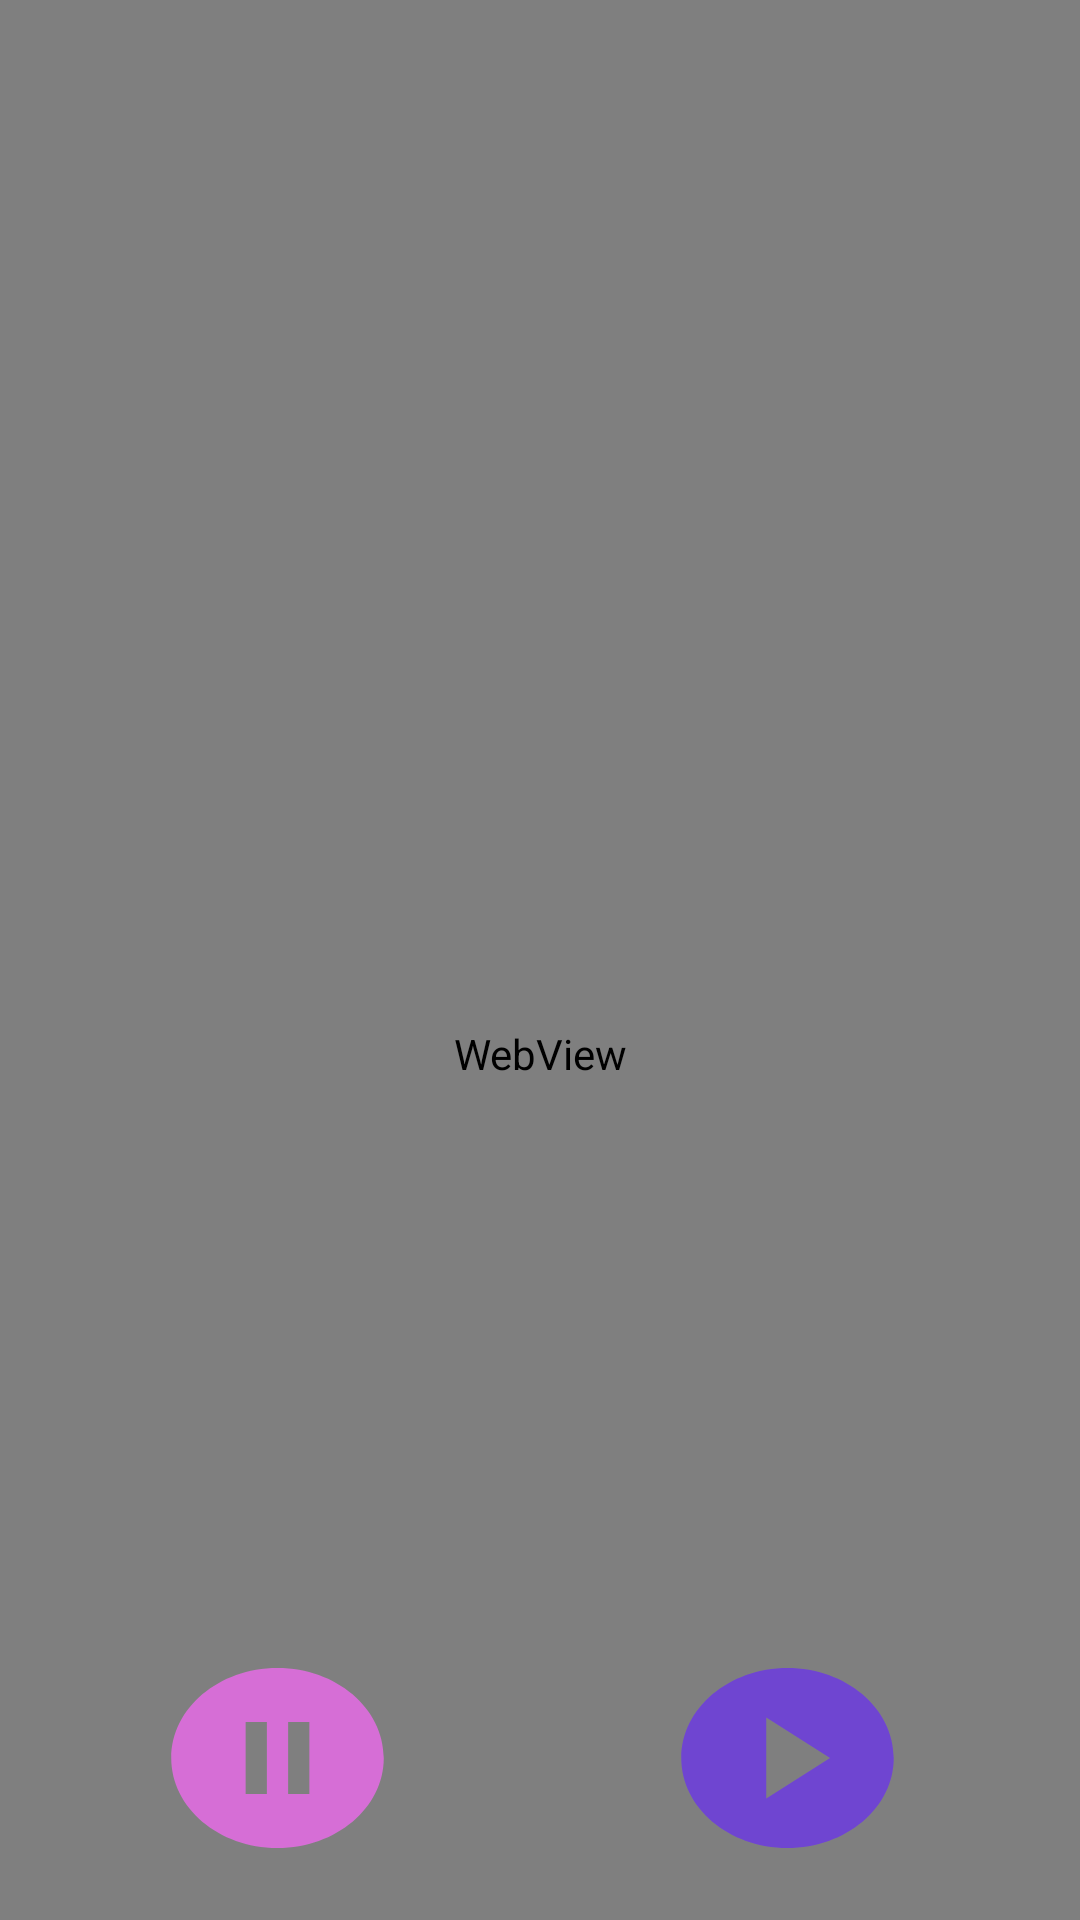

Screen size 1080×1920. Icon name, then its box in pixels as (x1,y1,x2,y2):
pause circle: (171,1668,384,1848)
play circle: (681,1668,894,1848)
